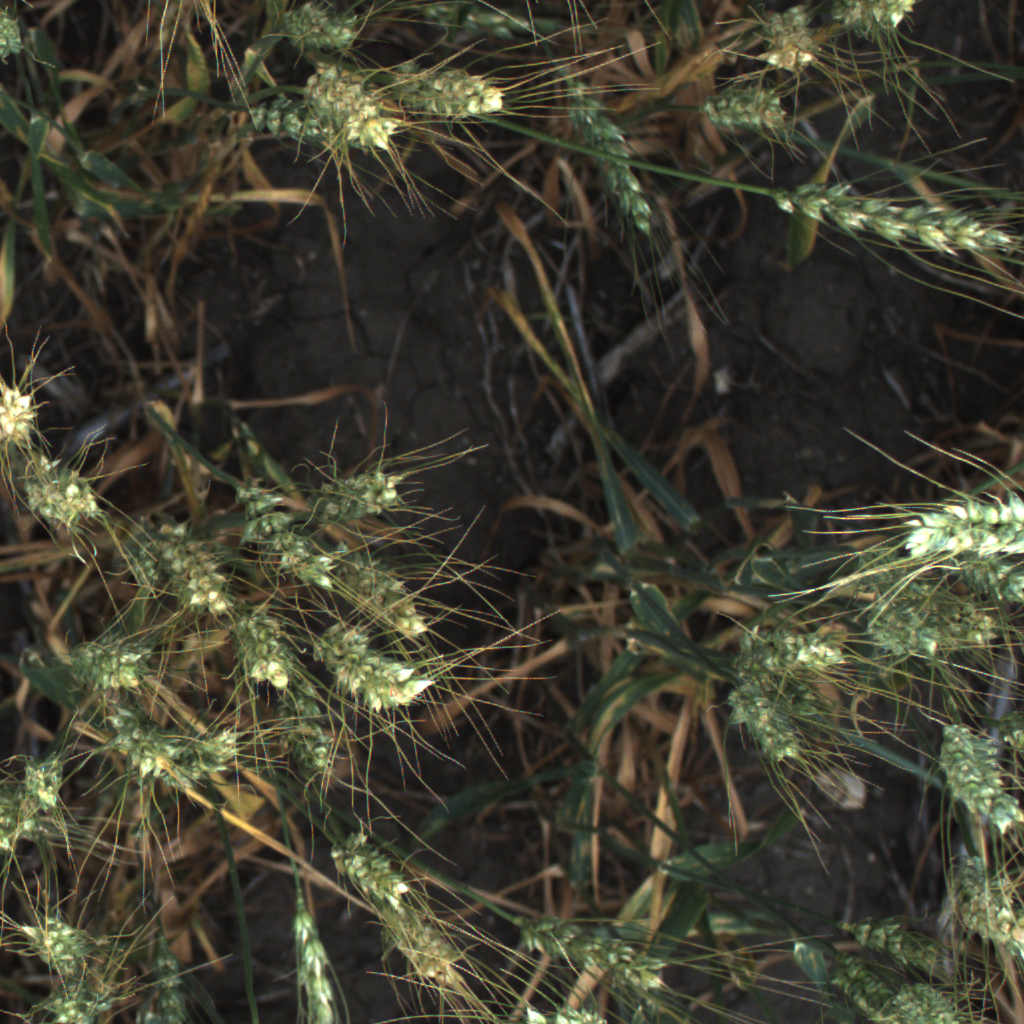wheat_head: (768, 170, 1024, 266), (555, 63, 664, 249), (223, 472, 348, 596), (513, 909, 670, 997), (303, 626, 445, 717), (328, 535, 438, 643), (142, 511, 248, 622), (889, 484, 1024, 567), (293, 67, 405, 156), (278, 885, 348, 1024), (370, 57, 511, 126), (850, 599, 999, 658), (925, 713, 1002, 824), (725, 680, 817, 772), (99, 704, 190, 797), (723, 621, 857, 683), (324, 823, 415, 914), (943, 852, 1024, 954), (61, 630, 175, 702), (378, 902, 468, 991), (269, 692, 352, 784), (11, 906, 107, 982), (957, 725, 1023, 835), (146, 720, 252, 787), (18, 454, 106, 532), (264, 0, 373, 62), (228, 608, 301, 700), (240, 89, 346, 152), (311, 462, 420, 522), (690, 82, 797, 142), (834, 915, 946, 972), (9, 734, 73, 826), (138, 934, 199, 1024), (827, 952, 902, 1024), (748, 4, 824, 75), (0, 370, 50, 457), (959, 543, 1024, 606), (0, 3, 52, 77), (834, 0, 919, 45), (34, 980, 120, 1024), (892, 980, 965, 1024), (0, 785, 43, 851), (515, 1001, 614, 1024)
